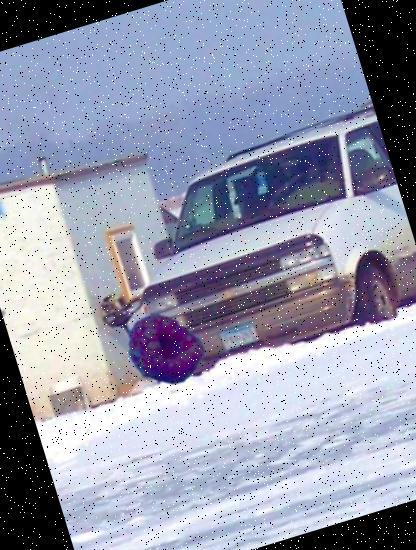Raspberry: (117, 299, 214, 396)
